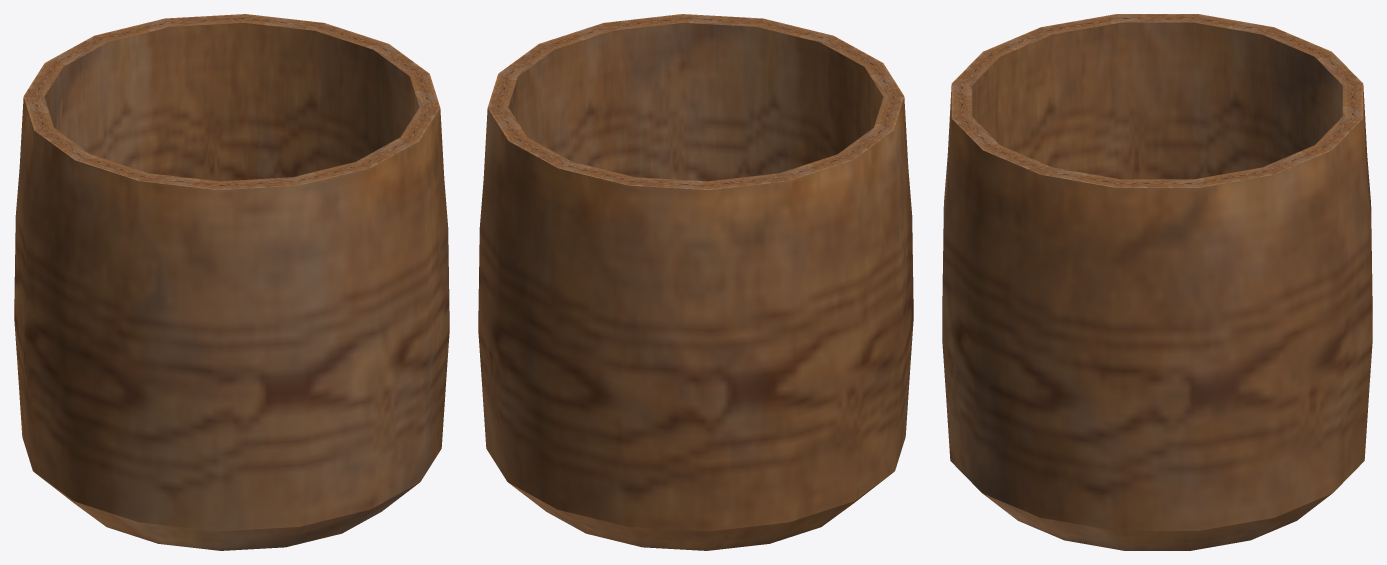
File: cup_wooden.glb
3 views of the same model, side by side, from view 1: azimuth 30°, elevation 25°; view 2: azimuth 150°, elevation 25°; view 3: azimuth 270°, elevation 25° (orthographic).
Visible parts, largest first — view 1: Object_30; view 2: Object_30; view 3: Object_30.
Boxes of the visible parts, x1,y1,x2,y2 form: Object_30: (14, 14, 449, 550); Object_30: (478, 14, 913, 550); Object_30: (942, 14, 1372, 550).
Size of the model in its own units: 0.0974 by 0.095 by 0.0974.
Materials: 1 (1 with a texture image).
